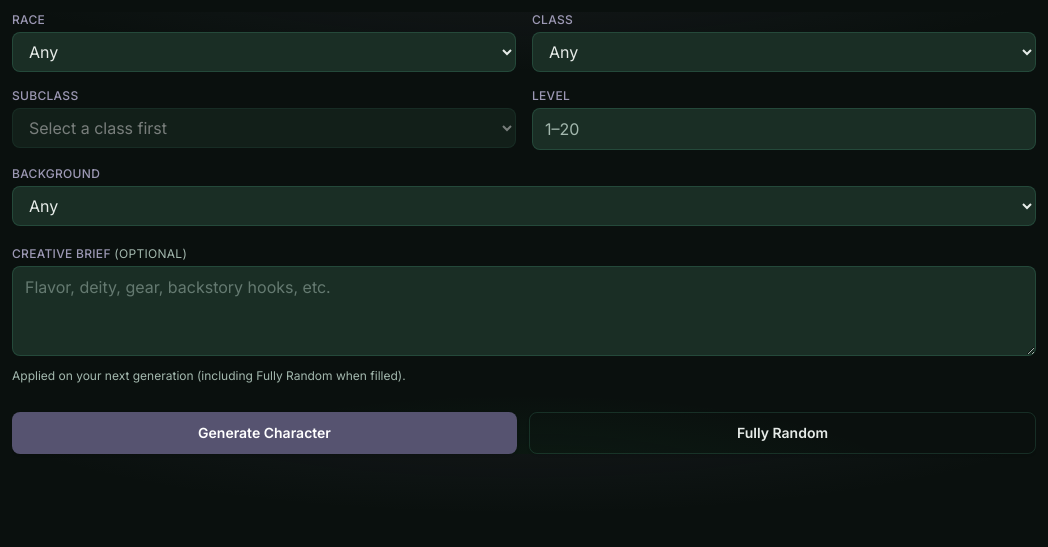
Test: CharacterForm › conditional dropdowns › shows Race Variant when a race with variants is selected
The width and height of the screenshot is (1048, 547).
Select "Elf" in the dropdown below "Race". click: (264, 52)
box: [12,32,516,72]
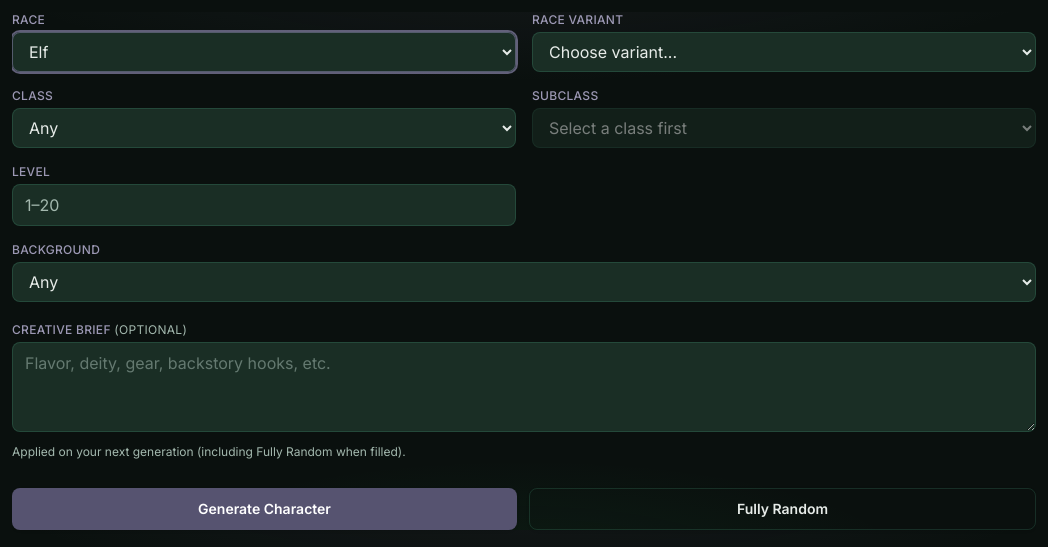
Expected: the dropdown below "Race Variant" is shown, [532,32,1036,72]
